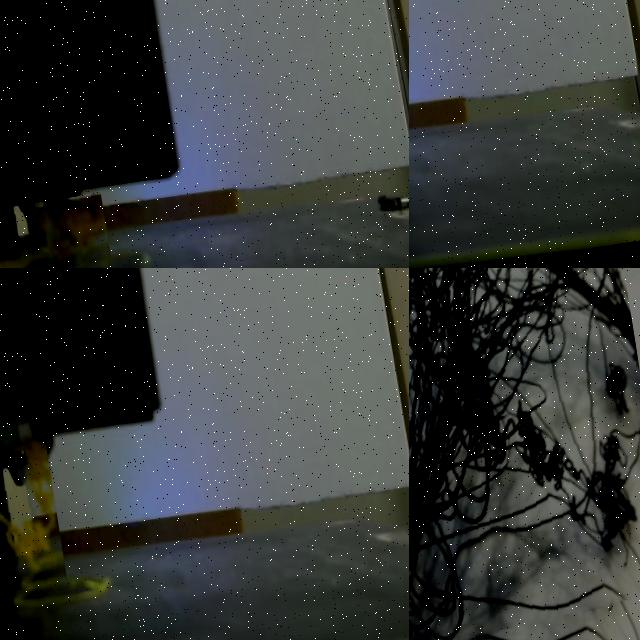spaghetti: (409, 268, 639, 640), (0, 443, 62, 590), (0, 198, 107, 268)
